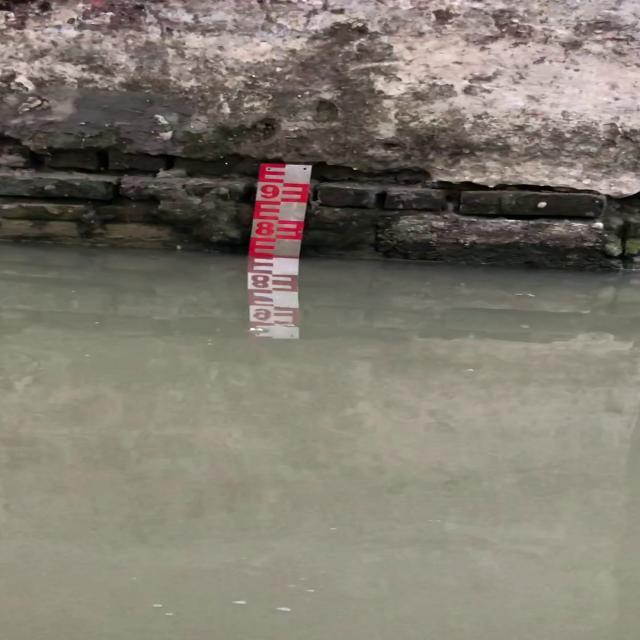ruler: (241, 154, 321, 268)
value: (250, 216, 278, 239), (257, 180, 283, 202)
